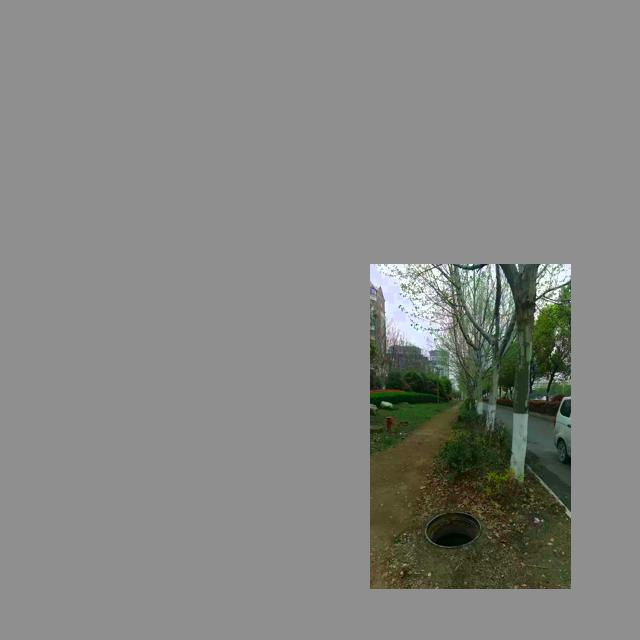lose: (424, 510, 482, 548)
